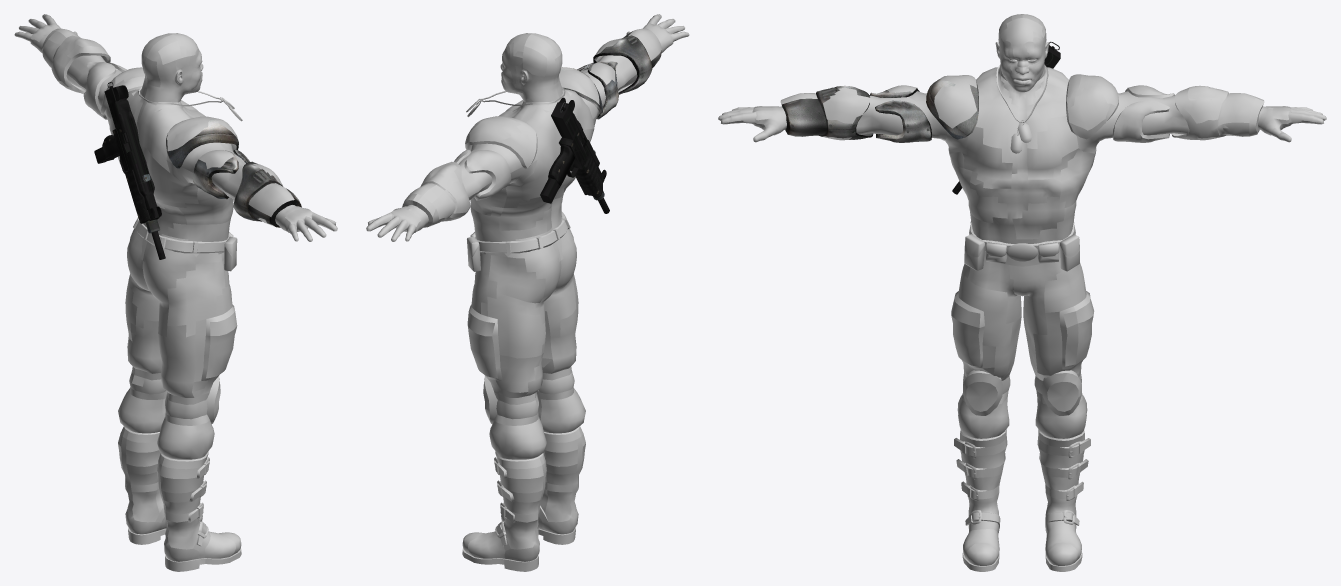
File: Jax.obj
3 renders of one model, left to right at view 1: azimuth 30°, elevation 25°; view 2: azimuth 150°, elevation 25°; view 3: azimuth 270°, elevation 25°, orthographic. The views are drawn at different scales.
Parts seen in each view (by area): view 1: Jax; view 2: Jax; view 3: Jax.
Boxes of the visible parts, x1,y1,x2,y2 form: Jax: (14, 14, 337, 571); Jax: (366, 14, 689, 571); Jax: (718, 14, 1326, 571).
Size of the model in its own units: 47.25 by 199 by 206.
